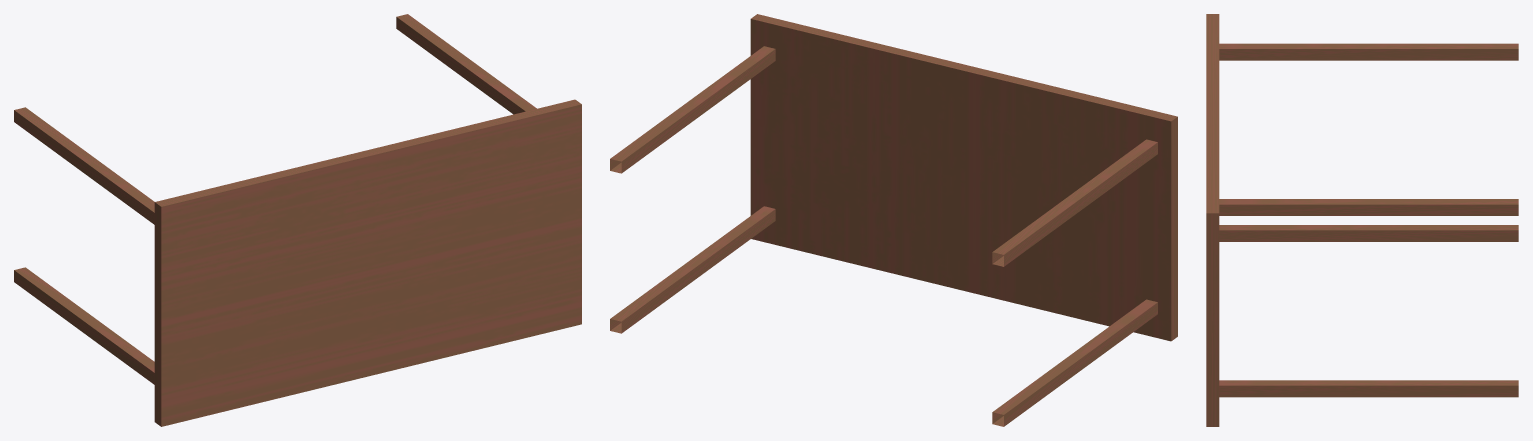
File: table.obj
3 renders of one model, left to right at view 1: azimuth 30°, elevation 25°; view 2: azimuth 150°, elevation 25°; view 3: azimuth 270°, elevation 25°, orthographic. The views are drawn at different scales.
Visible parts, largest first — view 1: Cube; view 2: Cube; view 3: Cube.
Part boxes in pixels (box(x1,y1,x2,y2)): Cube: box(14, 14, 581, 426); Cube: box(610, 14, 1177, 426); Cube: box(1206, 14, 1518, 426).
Size of the model in its own units: 1.1 by 0.55 by 0.7278.
Materials: 1 (1 with a texture image).
